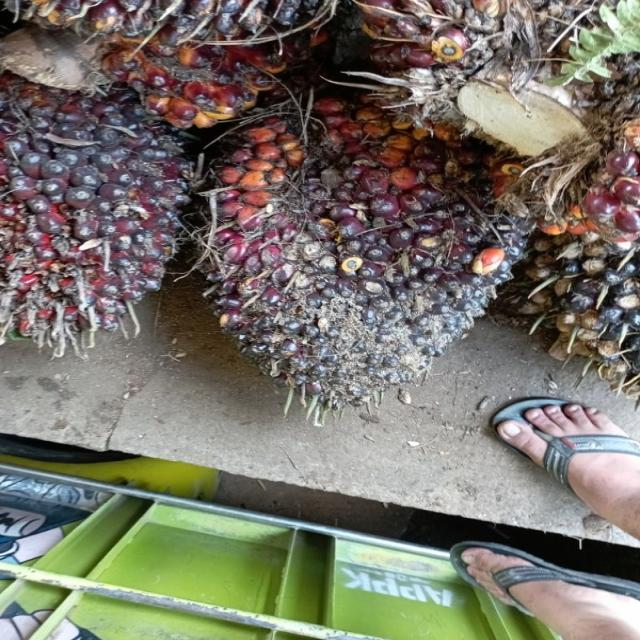fraksi 1: (194, 93, 547, 401), (2, 93, 204, 354)
